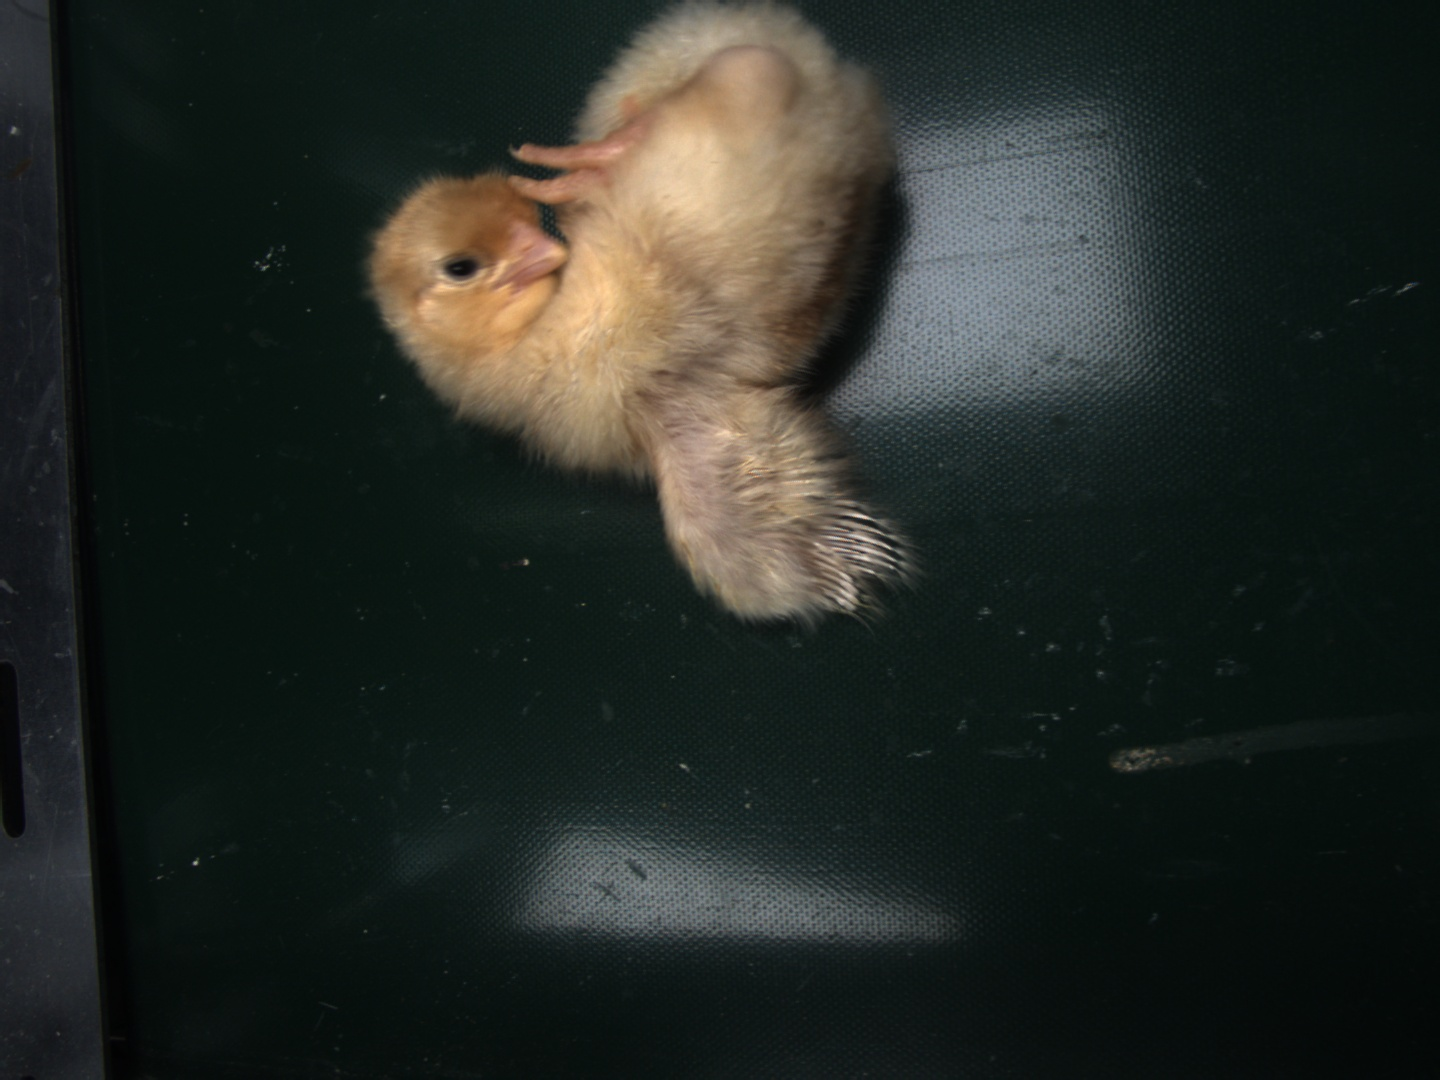female: (808, 499, 896, 577)
